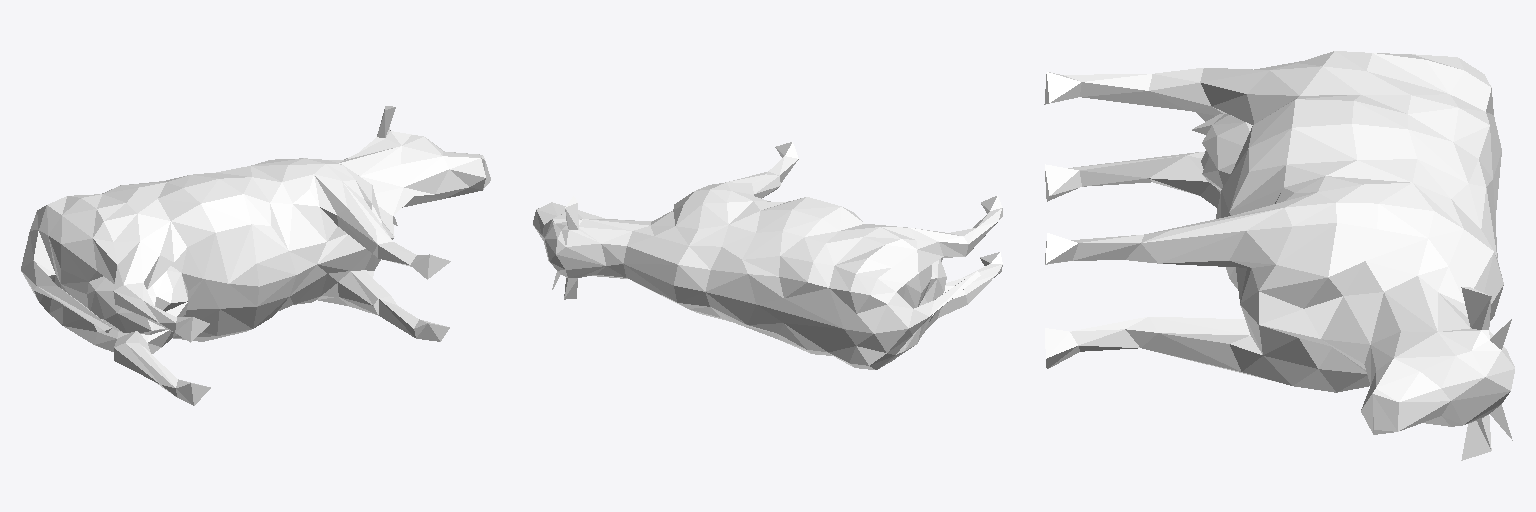
robot.urdf — cow.obj:
<robot name="cow.obj">
	<link name="_name">
		<visual>
			<origin rpy="0.0 0.0 0.0" xyz="-103.71005223753788 -562.7994779884127 219.541779" />
			<geometry>
				<mesh filename="cow.obj" scale="1 1 1" />
			</geometry>
			<material name="texture">
				<color rgba="1.0 1.0 1.0 1.0" />
			</material>
		</visual>
		<collision>
			<origin rpy="0.0 0.0 0.0" xyz="-103.71005223753788 -562.7994779884127 219.541779" />
			<geometry>
				<mesh filename="cow.obj" scale="1 1 1" />
			</geometry>
		</collision>
		<inertial>
			<mass value="1.0" />
			<inertia ixx="1.0" ixy="0.0" ixz="0.0" iyy="1.0" iyz="0.0" izz="1.0" />
		</inertial>
	</link>
</robot>

--- Render facts (derived) ---
The picture shows the robot from 3 angles, left to right: view 1: azimuth 30°, elevation 25°; view 2: azimuth 150°, elevation 25°; view 3: azimuth 270°, elevation 25°; orthographic projection.
Model cow.obj with 1 links and 0 joints (none), rooted at _name, posed all joints at 0.
Links seen in each view (by area): view 1: _name; view 2: _name; view 3: _name.
Boxes of the visible links, left/top/right/bottom form: _name: left=21, top=106, right=490, bottom=405; _name: left=533, top=142, right=1002, bottom=369; _name: left=1044, top=51, right=1514, bottom=460.
Bounding box of the posed robot: 1456 × 903 × 438 m (x, y, z).
Meshes: 1 distinct files referenced, 1 mesh visuals loaded (1 OBJ).